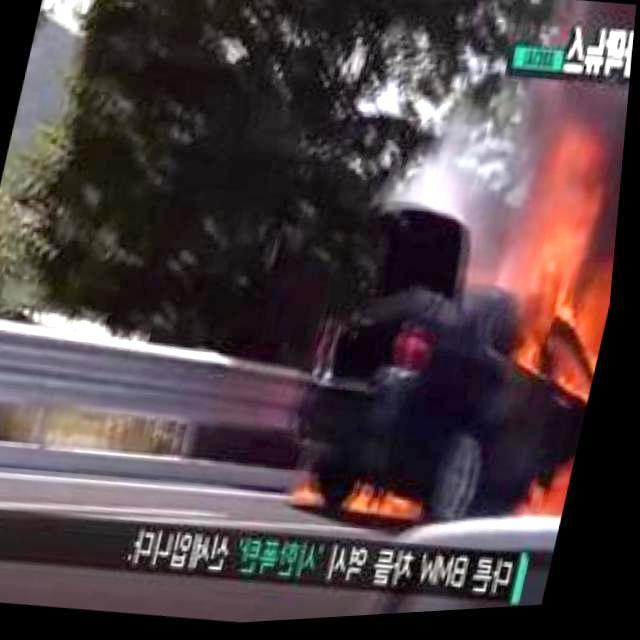fire: (499, 178, 625, 390), (510, 466, 582, 530)
